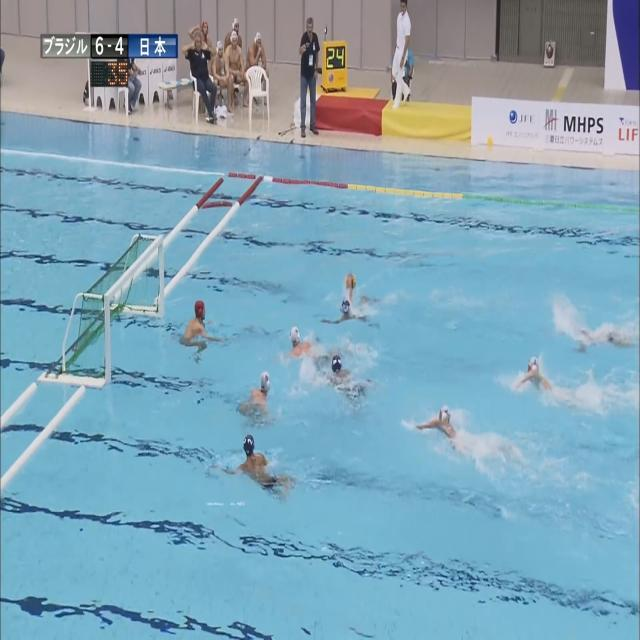ball: (346, 273, 356, 290)
